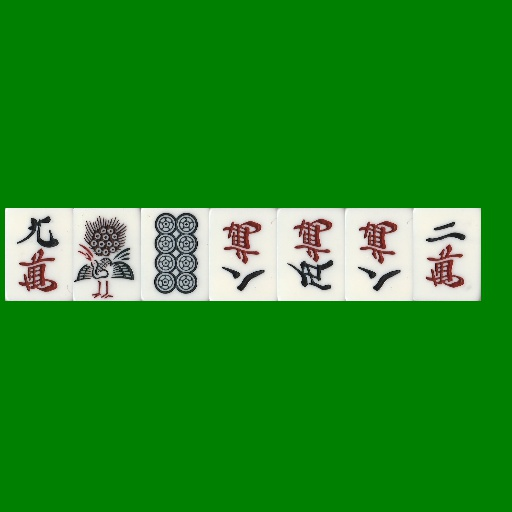1s: (73, 208, 141, 301)
2m: (413, 208, 481, 301)
5m: (277, 208, 345, 301)
8m: (209, 208, 277, 301), (345, 208, 413, 301)
8p: (141, 208, 209, 301)
9m: (5, 208, 73, 301)
